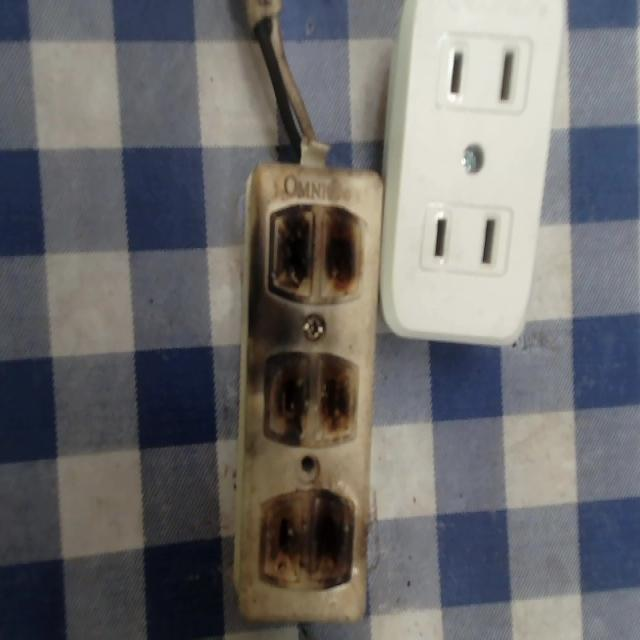-: (255, 481, 369, 587), (264, 200, 365, 304), (261, 347, 359, 449)
